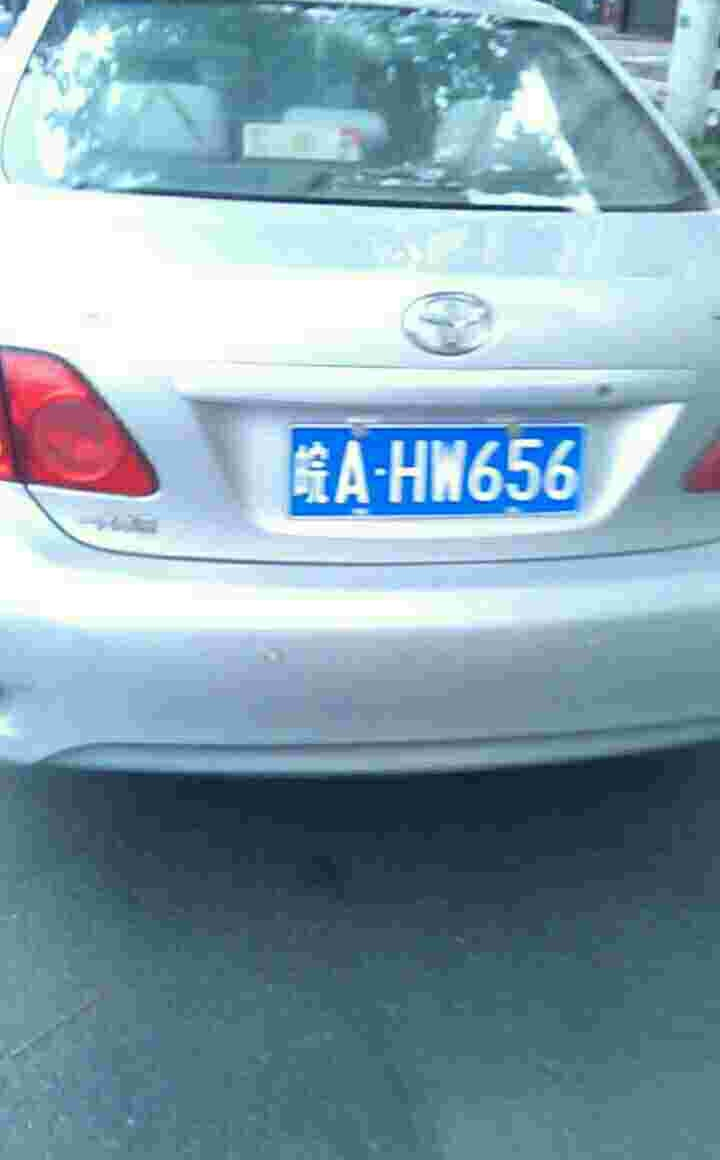plate: (289, 418, 597, 525)
